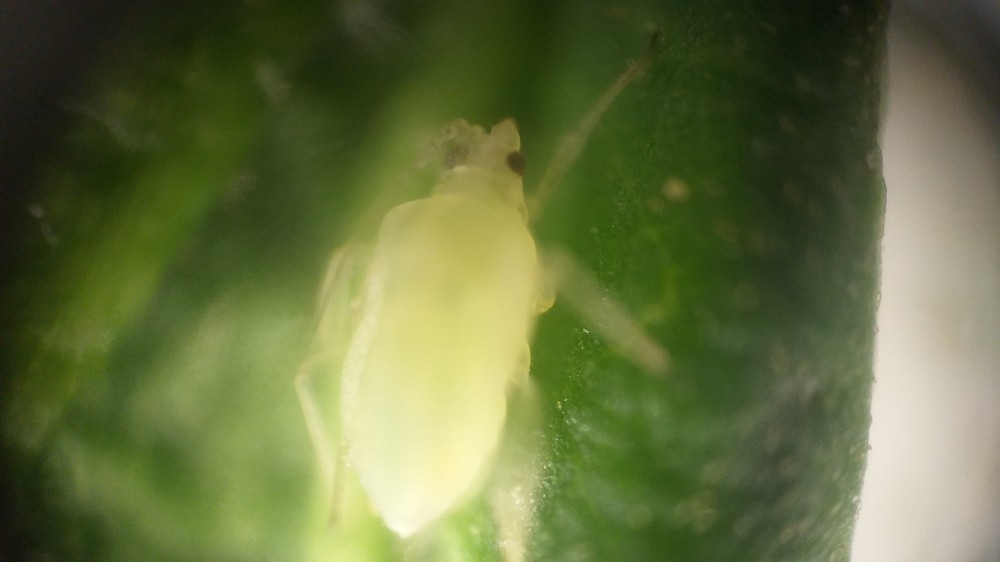Pulgon: (269, 56, 691, 556)
